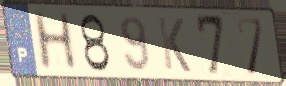7: (193, 12, 228, 79), (236, 16, 265, 78)
8: (78, 12, 112, 74)
9: (118, 15, 151, 73)
H: (31, 10, 80, 73)
K: (156, 15, 193, 75)
